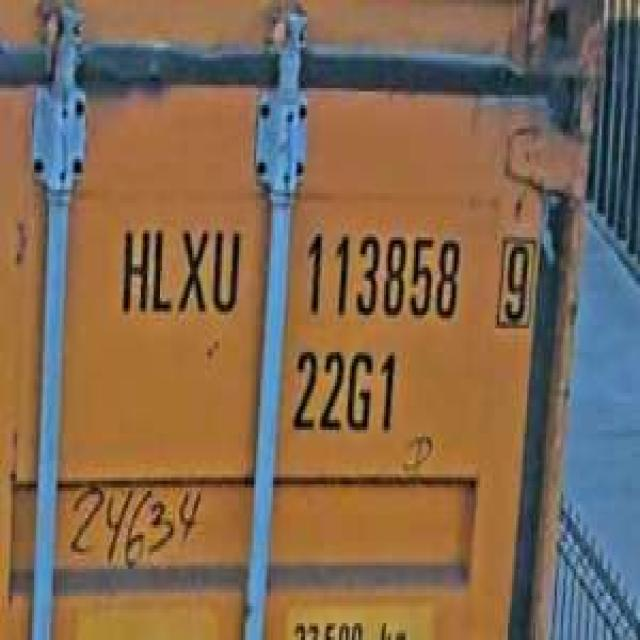dv: (490, 224, 536, 335)
owner: (116, 214, 246, 328)
serial: (297, 220, 467, 329)
size: (286, 338, 401, 444)
